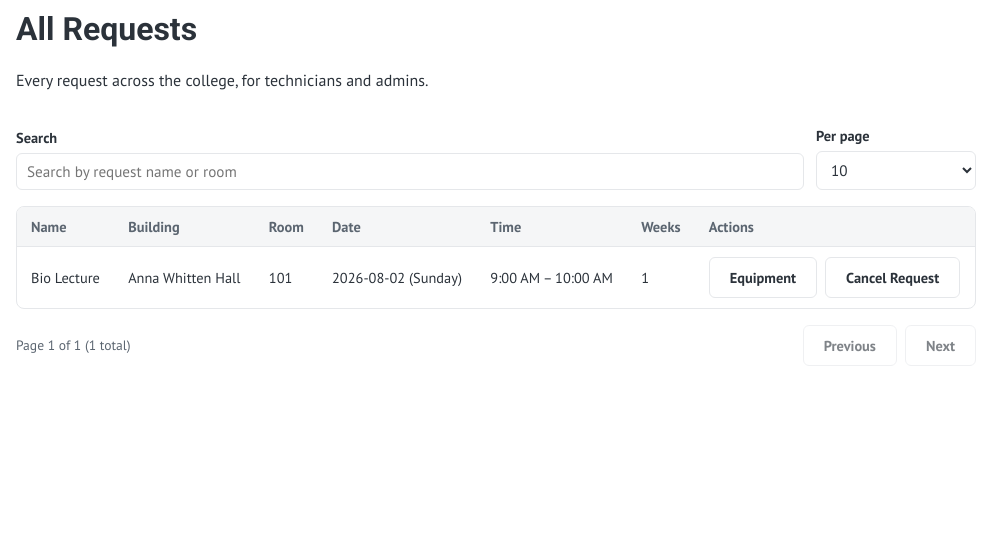
Test: says so when a unit has no earlier booking
Click the button "Equipment" at (763, 277), box [709,257,817,298]
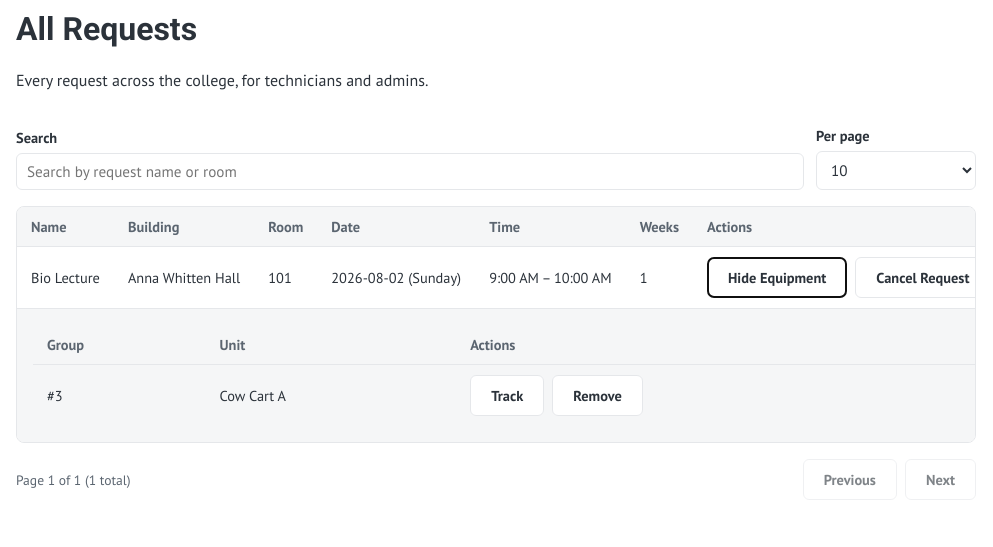
Click the button "Track" at (507, 396), box [470,375,544,416]
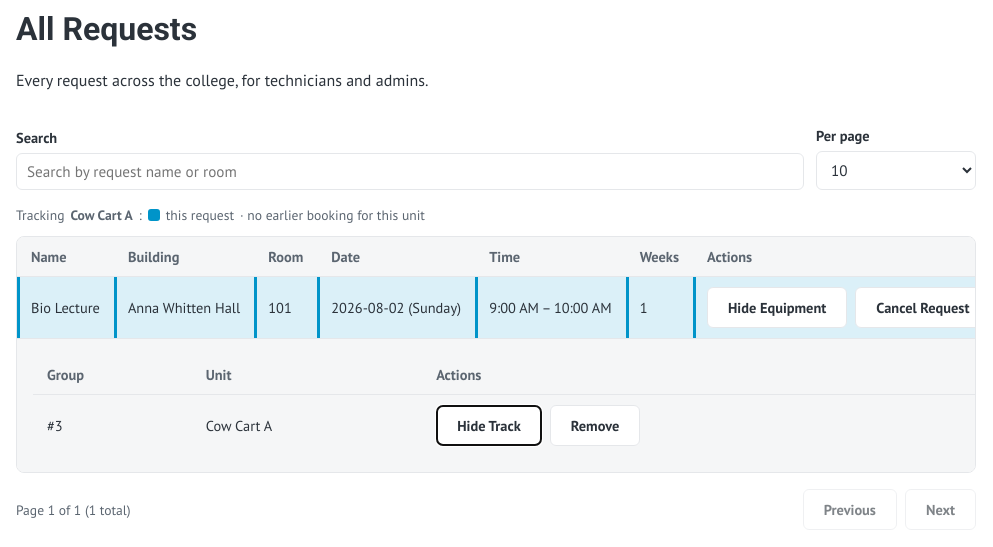
expect the text "Tracking" shows "no earlier booking for this unit": met, box [240,206,425,224]
